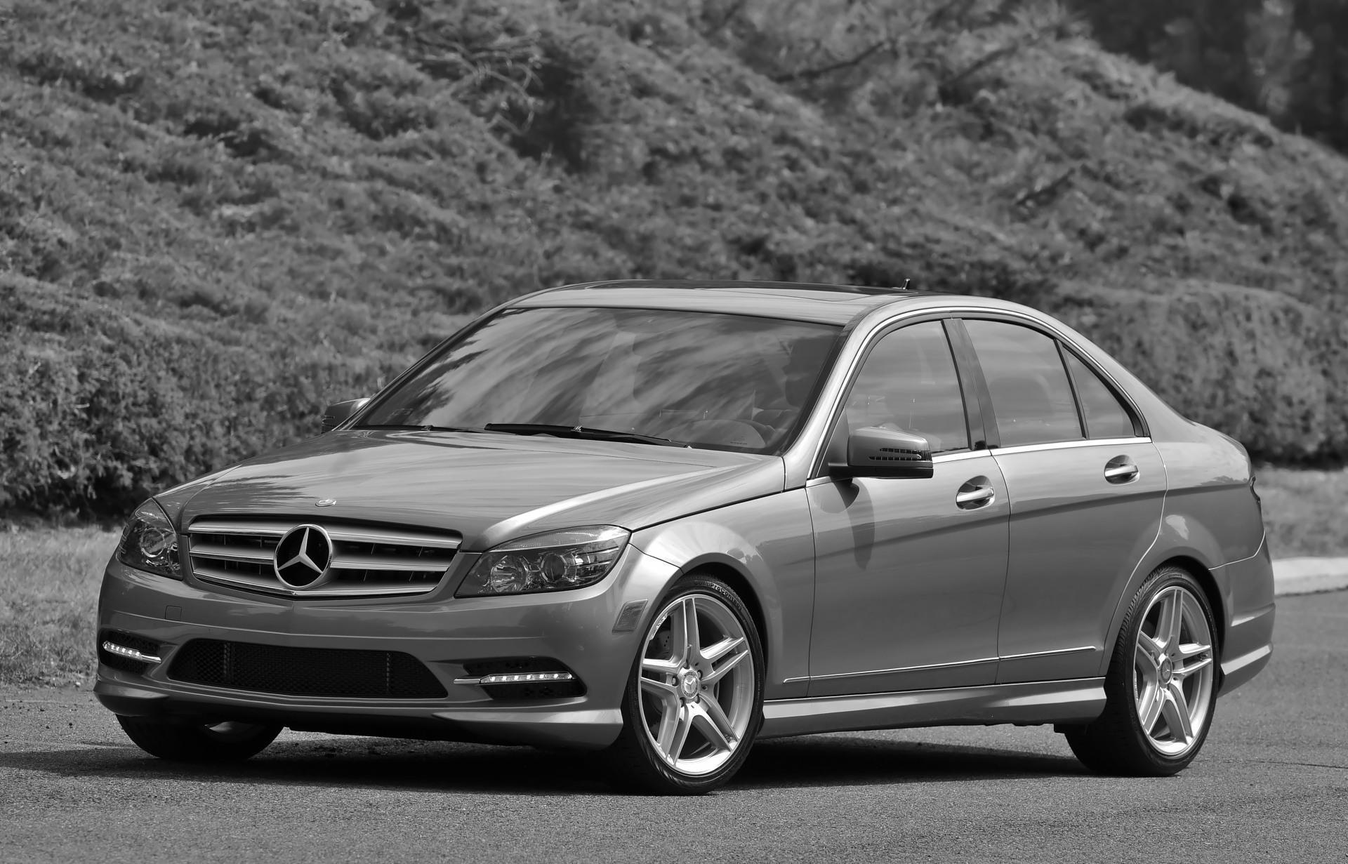car: (96, 293, 1279, 793)
